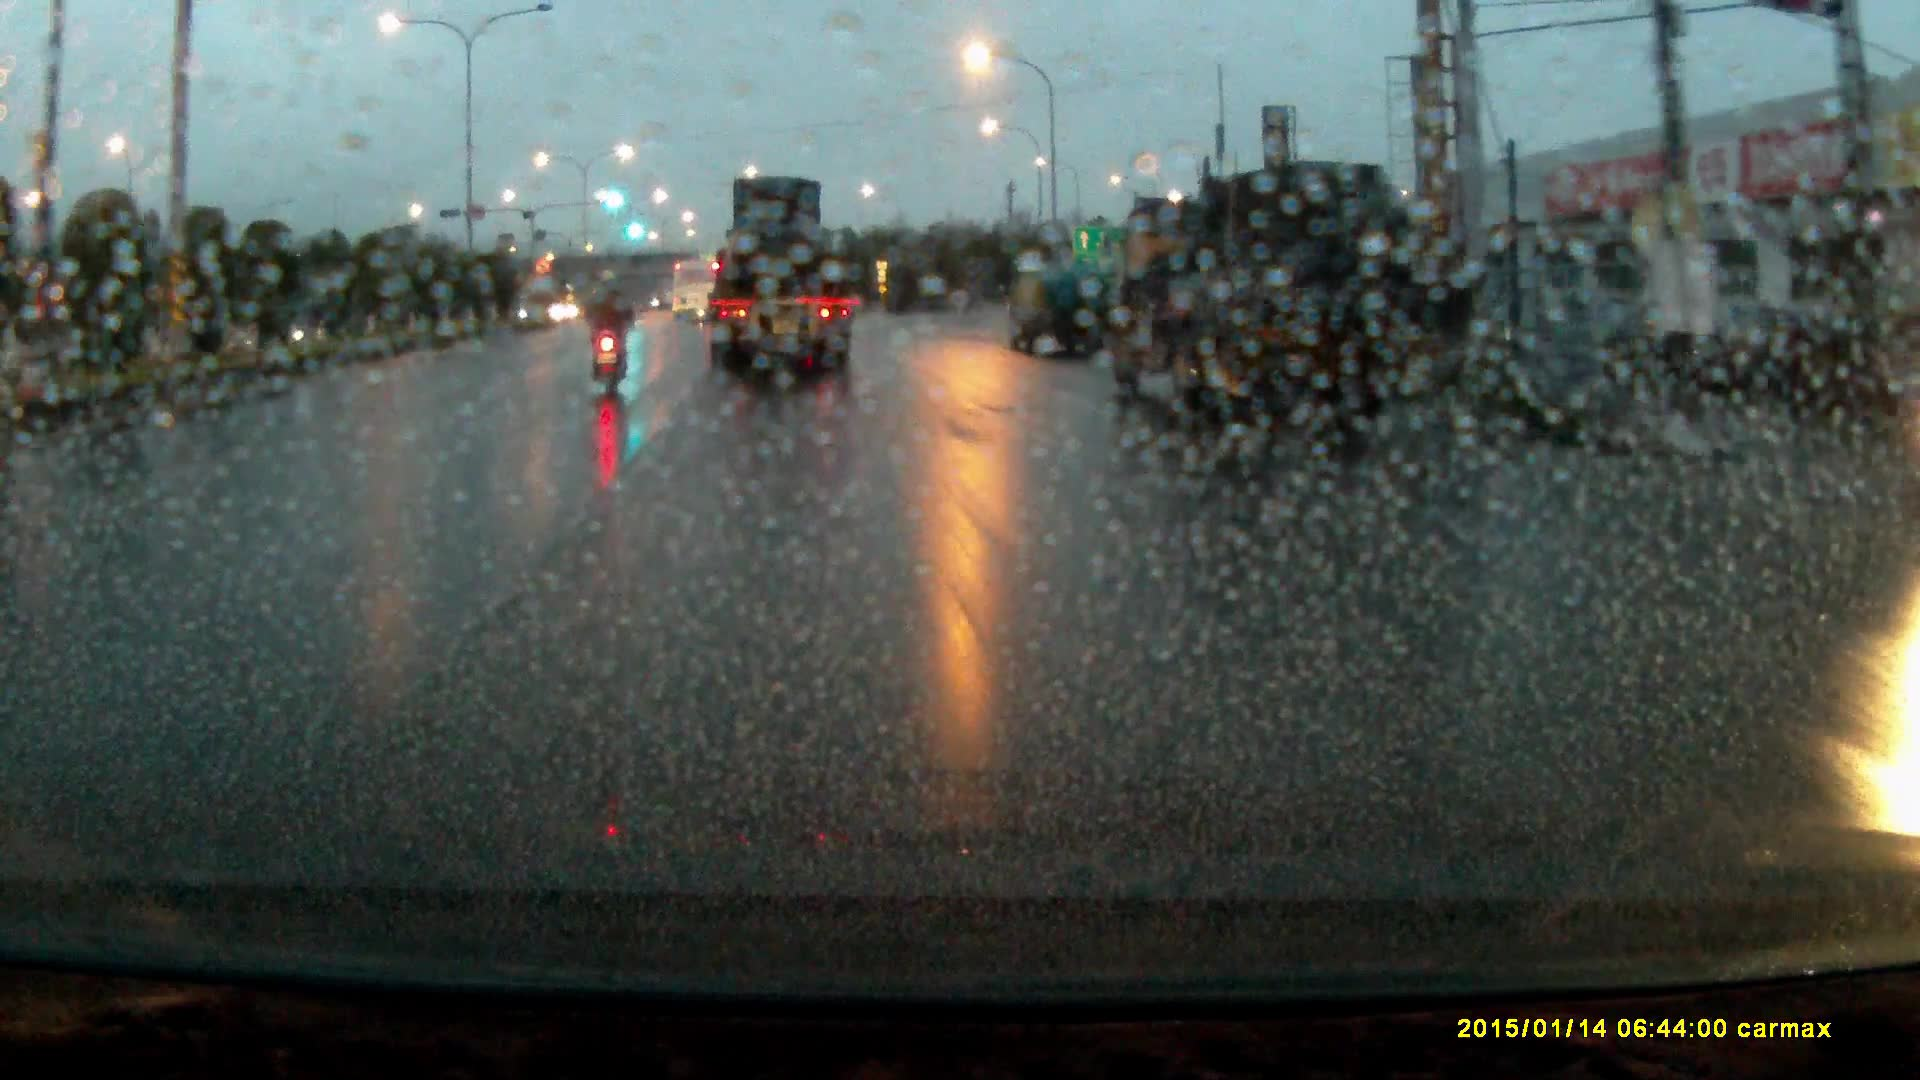rider: (583, 267, 637, 390)
vehicle: (1107, 159, 1413, 445), (704, 170, 859, 375), (1007, 257, 1108, 356), (673, 257, 717, 322), (590, 282, 636, 324)
